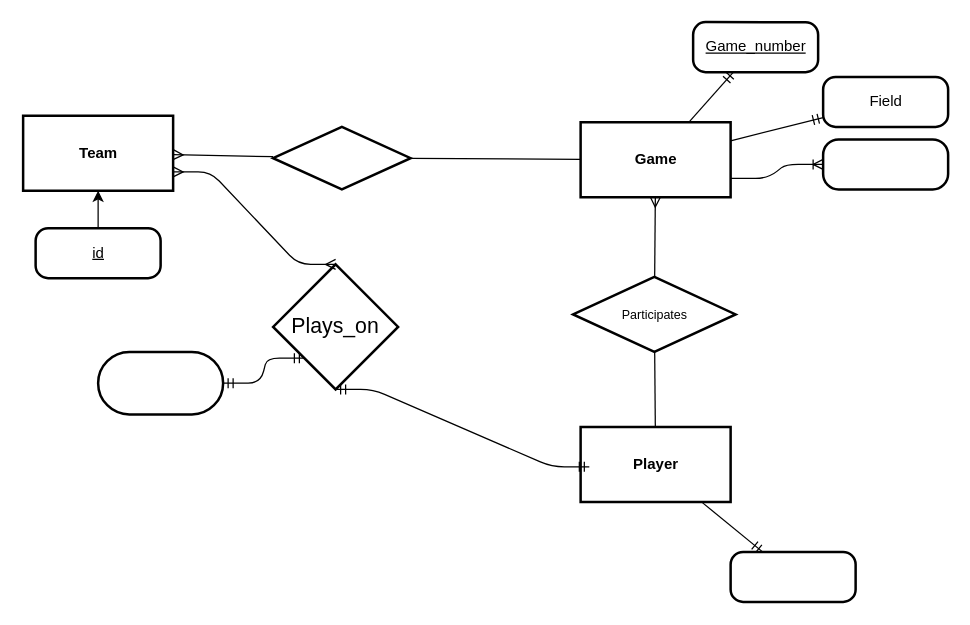
The diagram is 970 pixels wide and 625 high, and some of its shapes have lost their labels. Each missing label, with the box of its shape:
Date: (821, 138, 949, 190)
Player_id: (729, 550, 856, 602)
Plays In: (271, 125, 411, 190)
Score: (96, 350, 224, 415)
